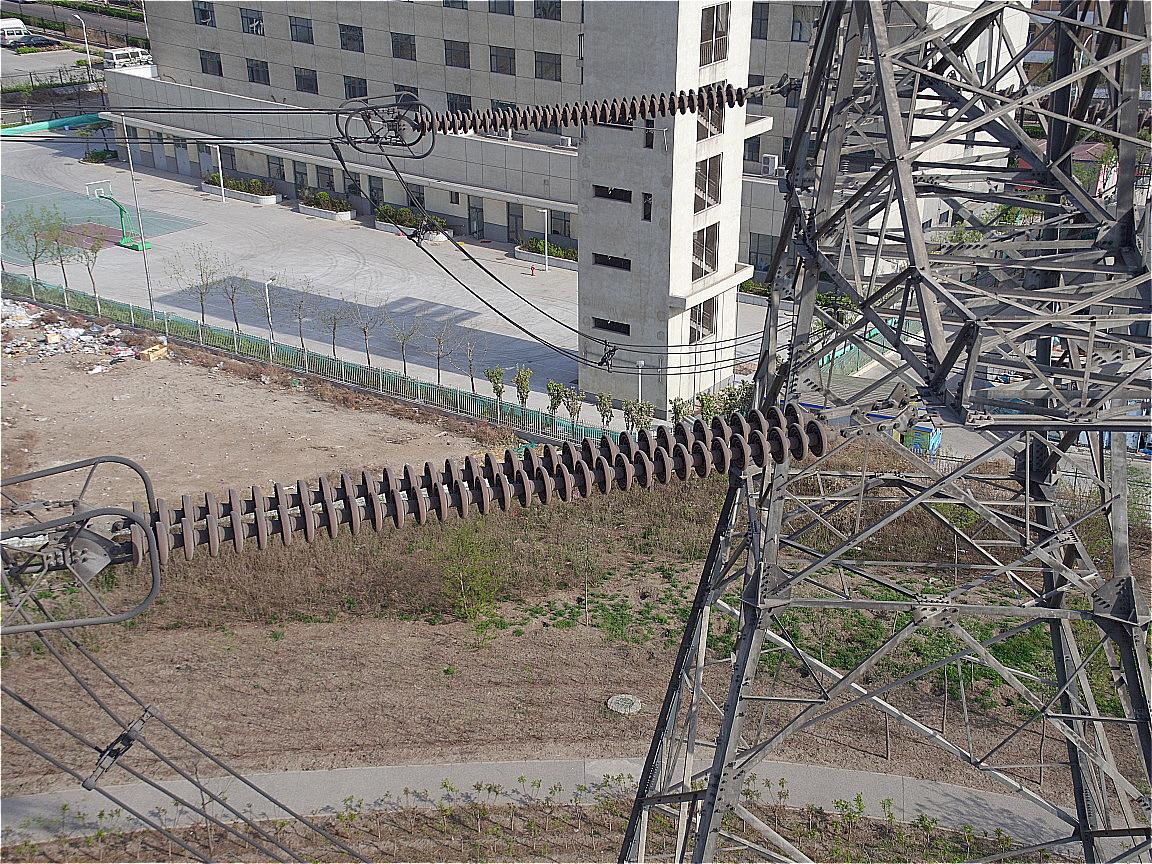insultor1: (127, 402, 831, 571), (414, 82, 751, 137)
